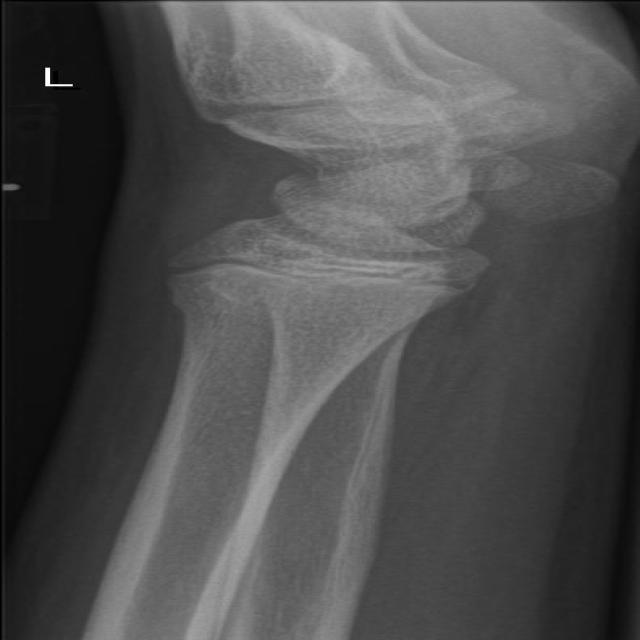fracture: (145, 248, 503, 307)
